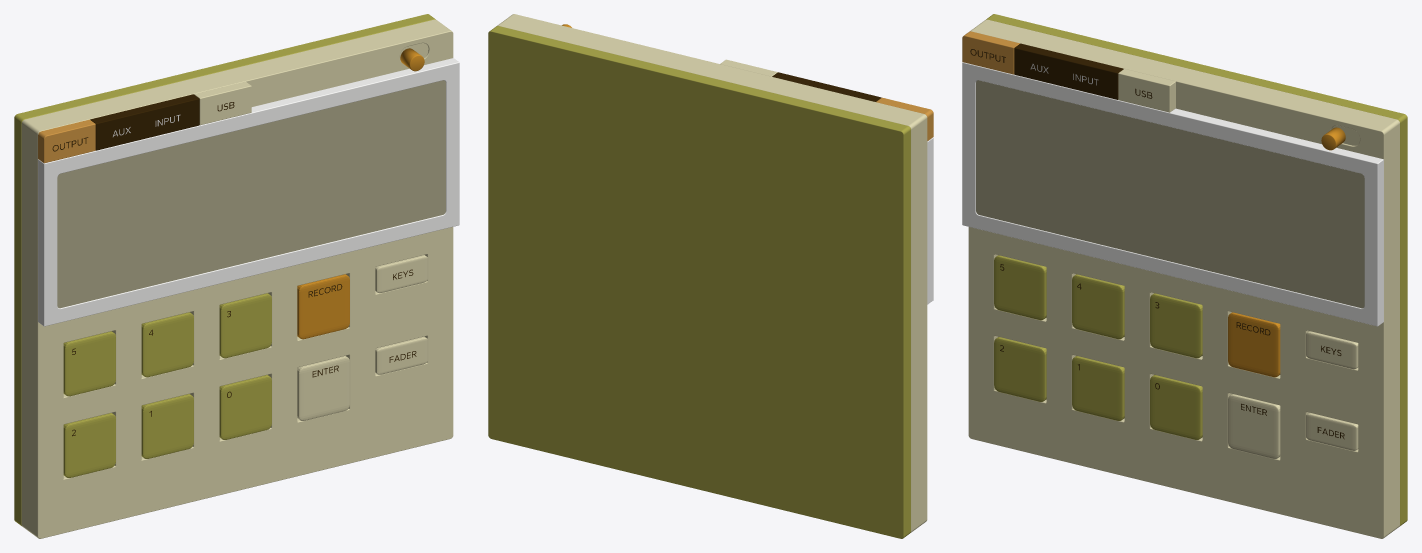
Rendered from Mixer_option2_color.glb.
3 views of the same model, side by side, from view 1: azimuth 30°, elevation 25°; view 2: azimuth 150°, elevation 25°; view 3: azimuth 330°, elevation 25° (orthographic).
Visible parts, largest first — view 1: baseOption2panel, baseOption2screen, baseOption2, baseOption2auxinput, btnZero, btnEnter, btnOne, btnTwo, btnFive, btnFour, btnThree, btnRecord (+4 smaller); view 2: baseOption2, baseOption2panel, baseOption2screen, baseOption2auxinput, baseOption2output; view 3: baseOption2panel, baseOption2screen, baseOption2, baseOption2auxinput, btnOne, btnZero, btnTwo, btnFour, btnFive, btnThree, btnEnter, btnRecord (+4 smaller).
Boxes of the visible parts, <box> form: baseOption2panel: <box>21,19,453,538</box>; baseOption2screen: <box>38,58,459,326</box>; baseOption2: <box>14,14,435,525</box>; baseOption2auxinput: <box>90,94,199,150</box>; btnZero: <box>219,375,271,439</box>; btnEnter: <box>297,356,349,420</box>; btnOne: <box>141,394,193,458</box>; btnTwo: <box>63,413,115,477</box>; btnFive: <box>63,331,115,396</box>; btnFour: <box>141,312,193,377</box>; btnThree: <box>219,293,271,358</box>; btnRecord: <box>297,274,349,339</box>; baseOption2: <box>488,26,910,538</box>; baseOption2panel: <box>497,14,927,532</box>; baseOption2screen: <box>927,137,933,304</box>; baseOption2auxinput: <box>772,72,881,101</box>; baseOption2output: <box>876,97,933,141</box>; baseOption2panel: <box>968,19,1399,538</box>; baseOption2screen: <box>962,62,1383,326</box>; baseOption2: <box>986,14,1407,526</box>; baseOption2auxinput: <box>1014,43,1123,99</box>; btnOne: <box>1072,356,1124,420</box>; btnZero: <box>1150,375,1202,439</box>; btnTwo: <box>994,337,1046,401</box>; btnFour: <box>1072,274,1124,339</box>; btnFive: <box>994,255,1046,320</box>; btnThree: <box>1150,293,1202,358</box>; btnEnter: <box>1228,394,1280,458</box>; btnRecord: <box>1228,312,1280,377</box>.
Size of the model in its own units: 1.28 by 1.2 by 0.1779.
